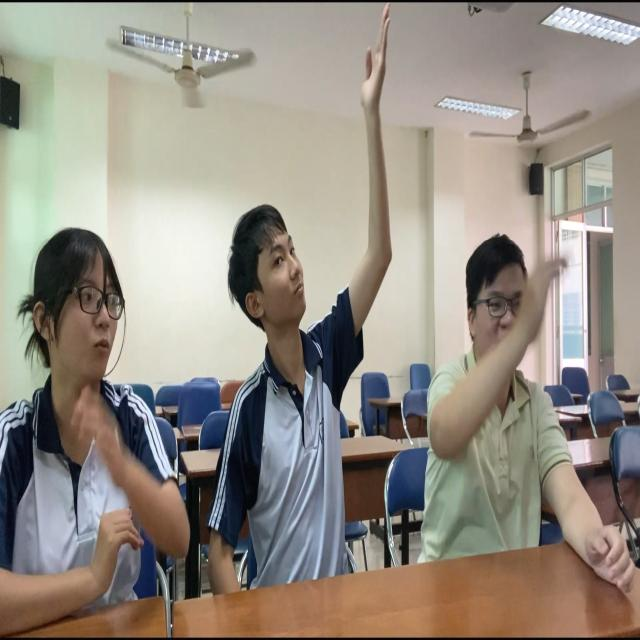raise_hand: (235, 1, 395, 639), (426, 229, 574, 578)
